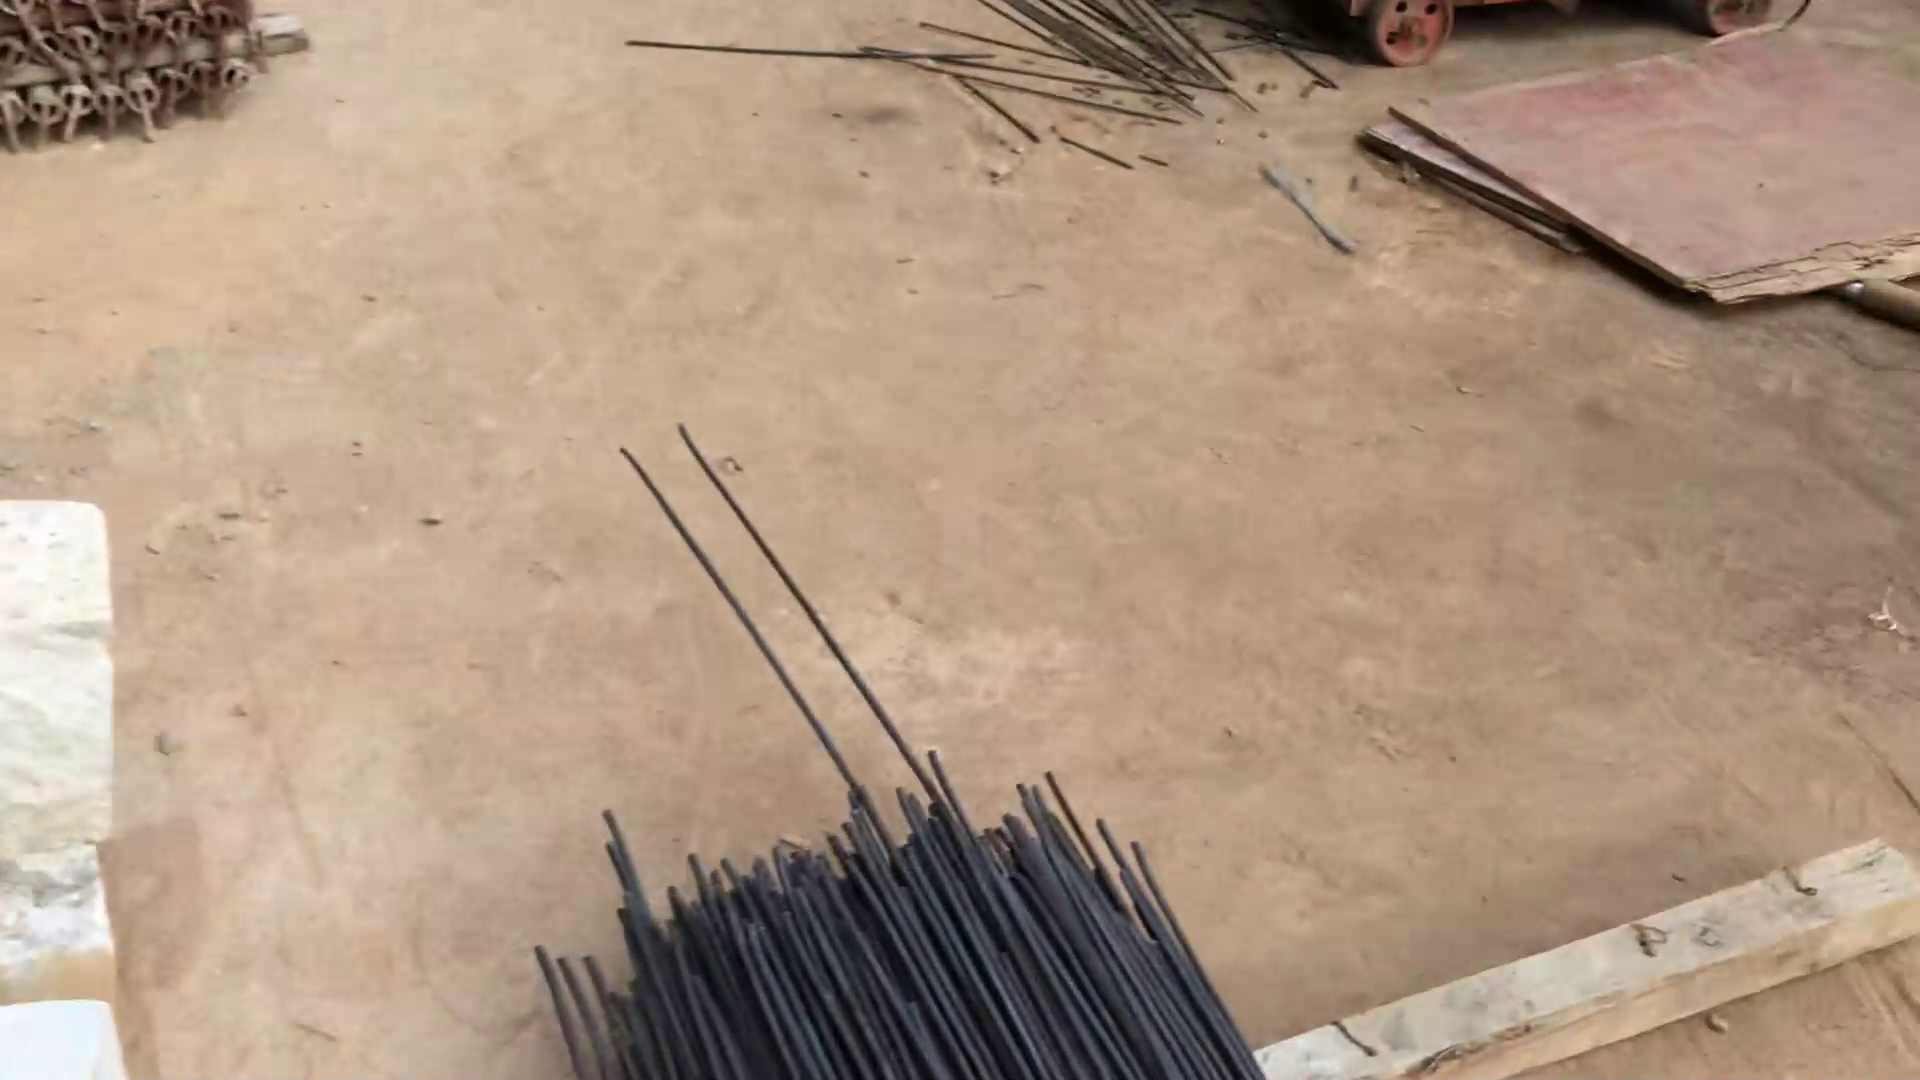rebar: (446, 647, 1273, 1080)
scaffold: (1, 1, 286, 164)
